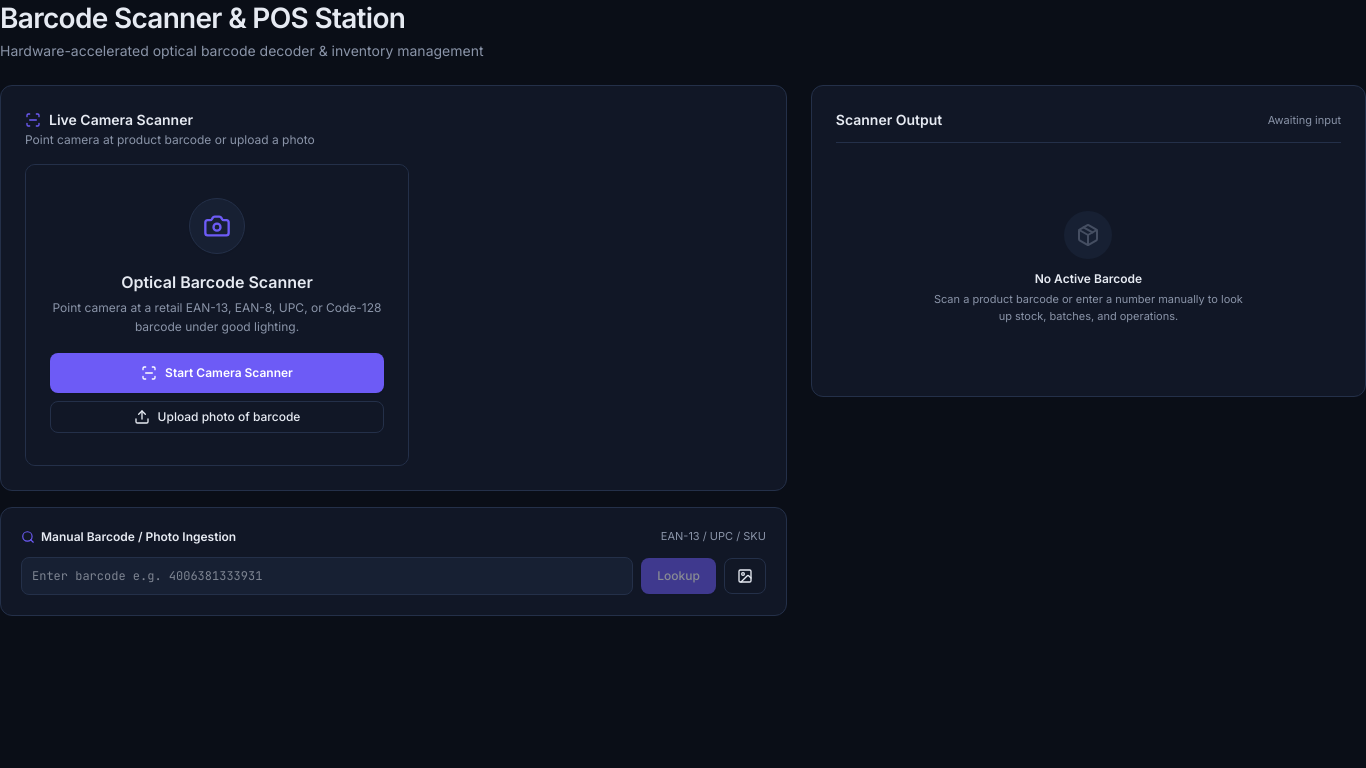
it: BusinessScanPage Camera Scanner Lifecycle & Diagnostics › opens troubleshooting guide when "How to fix camera issues" link is clicked
This screenshot has width=1366, height=768.
Click the button "Start Camera Scanner" at (217, 373), box [50, 353, 384, 393]
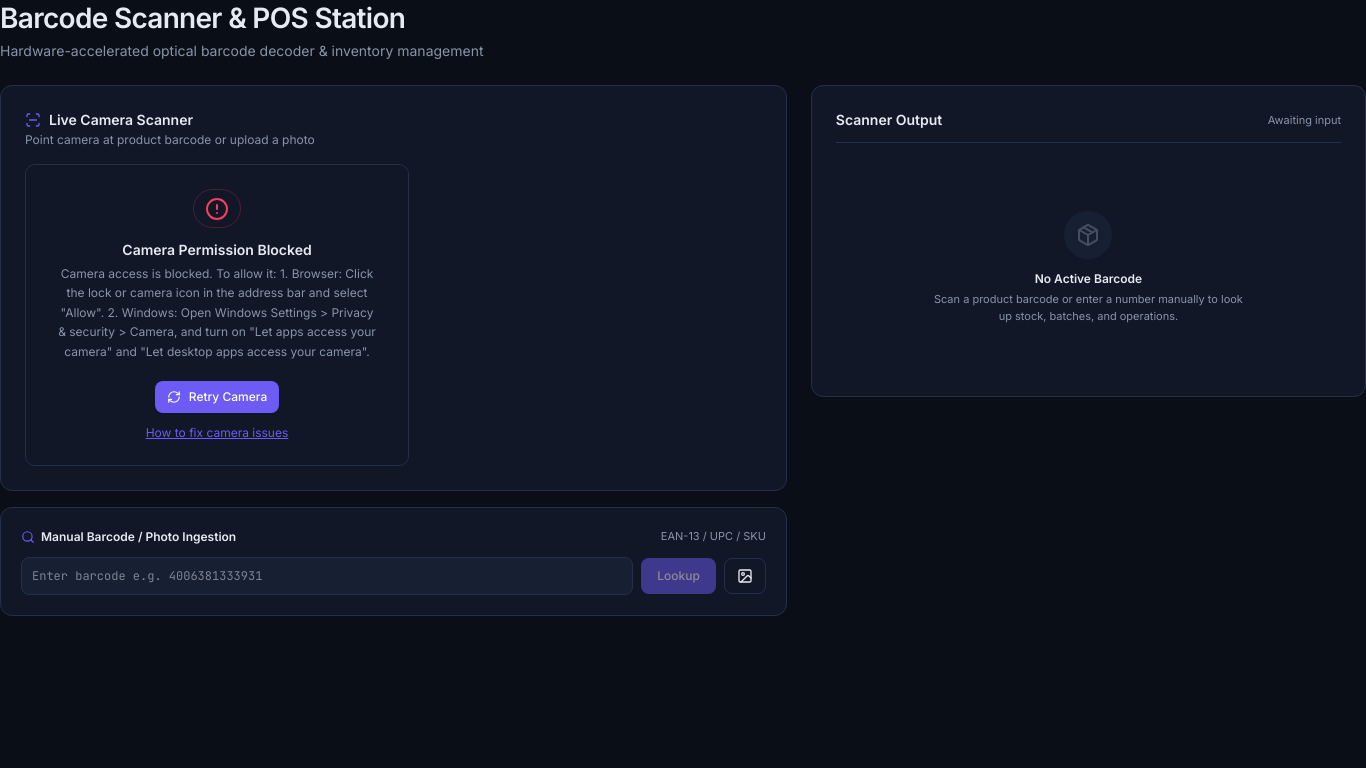
Now the link "How to fix camera issues" is shown
Click the link "How to fix camera issues" at (217, 433), box [146, 425, 288, 441]
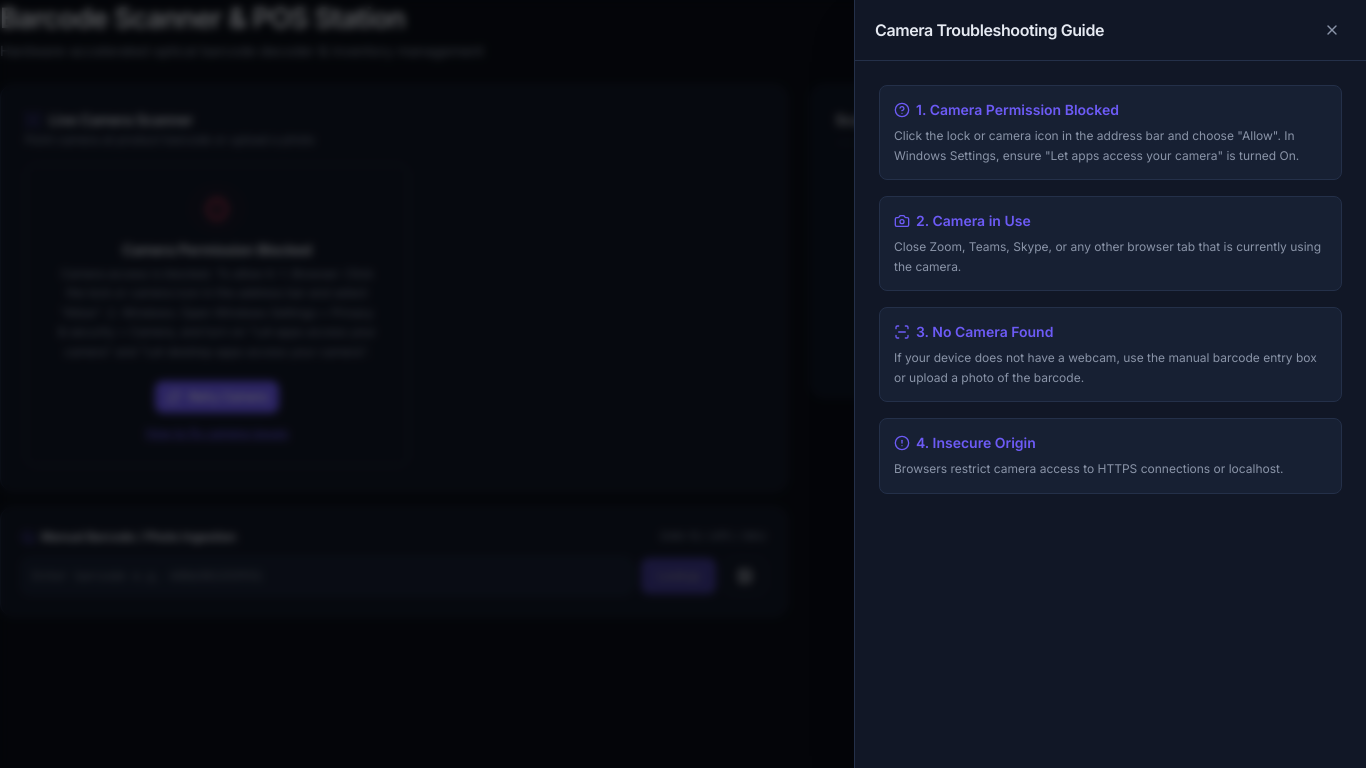
Now the heading "Camera Troubleshooting Guide" is shown, box [875, 18, 1104, 42]
Now the heading "1. Camera Permission Blocked" is shown, box [894, 101, 1119, 118]
Now the heading "2. Camera in Use" is shown, box [894, 212, 1031, 229]
